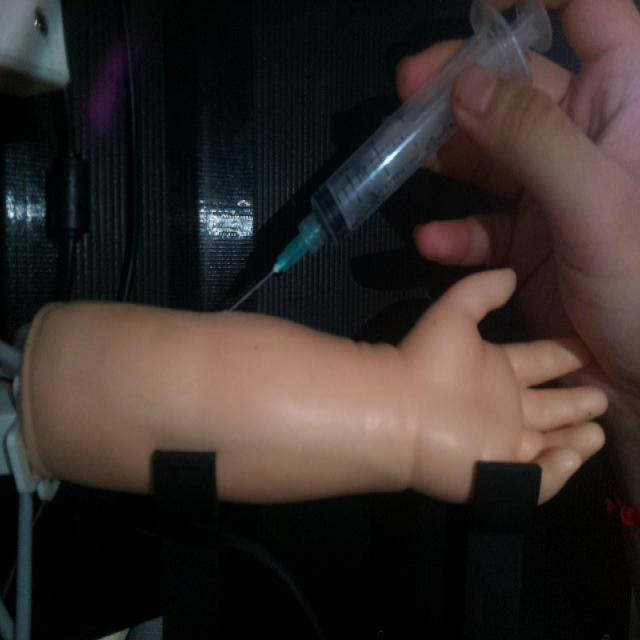Above 30 degrees: (226, 0, 554, 317)
